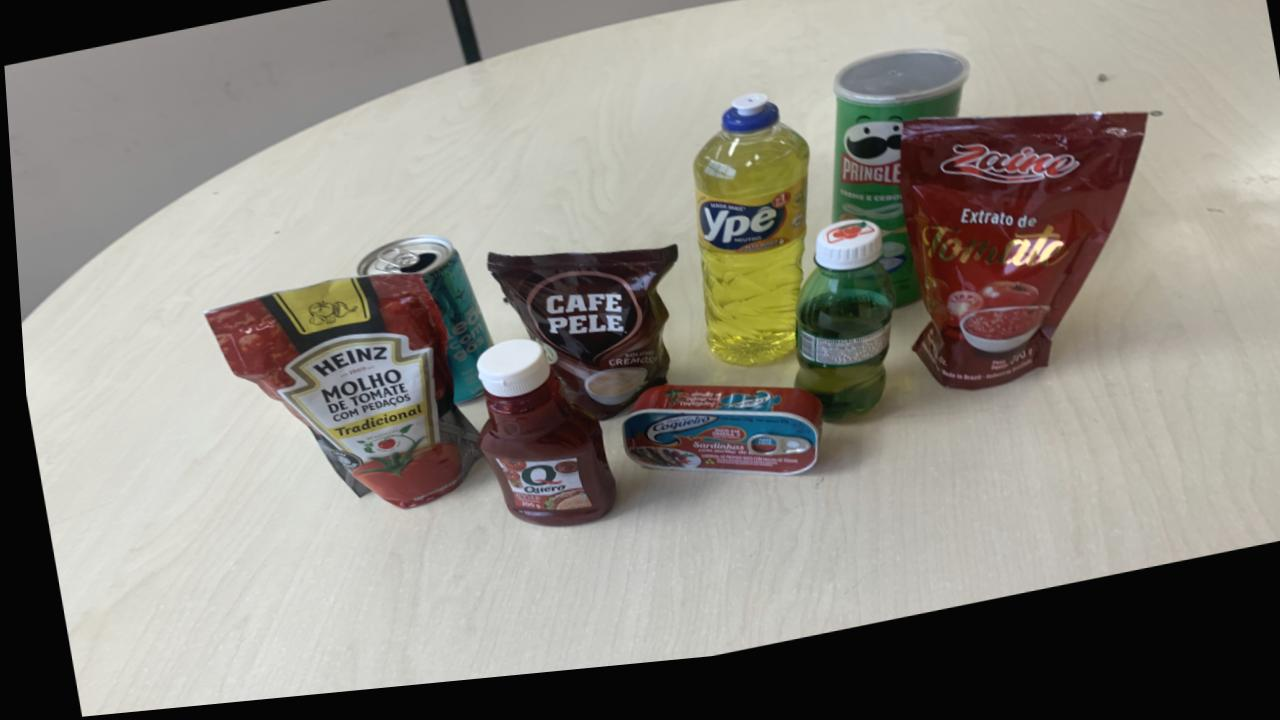Coffee-Pantry_Items: (482, 258, 674, 432)
Detergent-Cleanup_Items: (689, 108, 807, 380)
Guarana-Drinks: (789, 235, 891, 437)
Ketchup-Pantry_Items: (470, 348, 608, 537)
Pringles-Snacks: (827, 67, 968, 324)
Tea-Drinks: (353, 243, 487, 412)
Tomato_Sauce-Pantry_Items: (896, 135, 1144, 408), (202, 281, 474, 516)
Tuna_Can-Pantry_Items: (615, 397, 816, 491)
